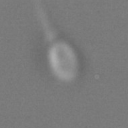normal: (25, 1, 60, 41)
